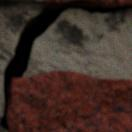brick: (7, 71, 131, 131), (82, 0, 131, 7), (14, 0, 76, 4)
crack: (0, 0, 131, 131)
